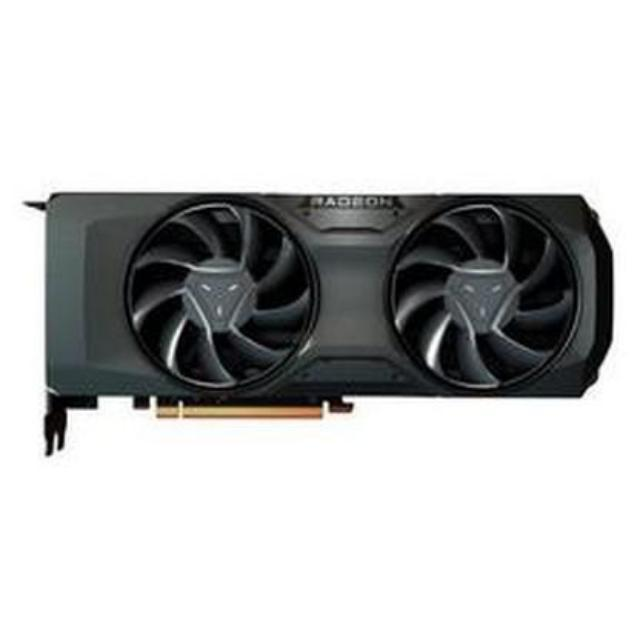GPU: (32, 182, 628, 418)
